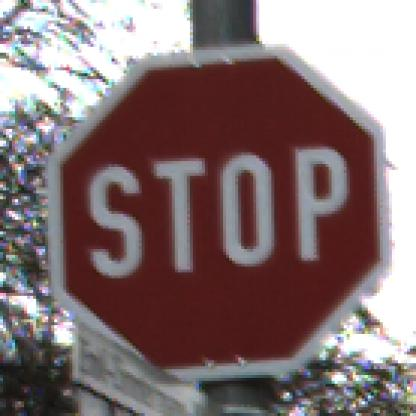stop: (49, 41, 389, 378)
